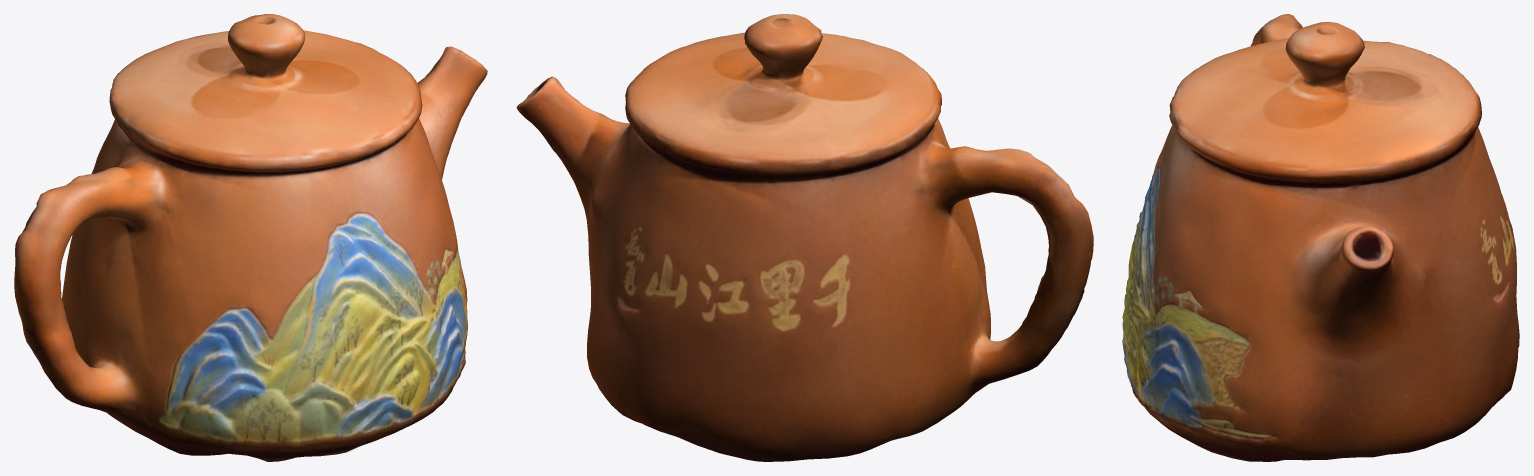
Rendered from qianlijiangshan.glb.
The picture shows the model from 3 angles, left to right: view 1: azimuth 30°, elevation 25°; view 2: azimuth 150°, elevation 25°; view 3: azimuth 270°, elevation 25°; orthographic projection.
Size of the model in its own units: 0.131 by 0.0945 by 0.0876.
Materials: 1 (1 with a texture image).
